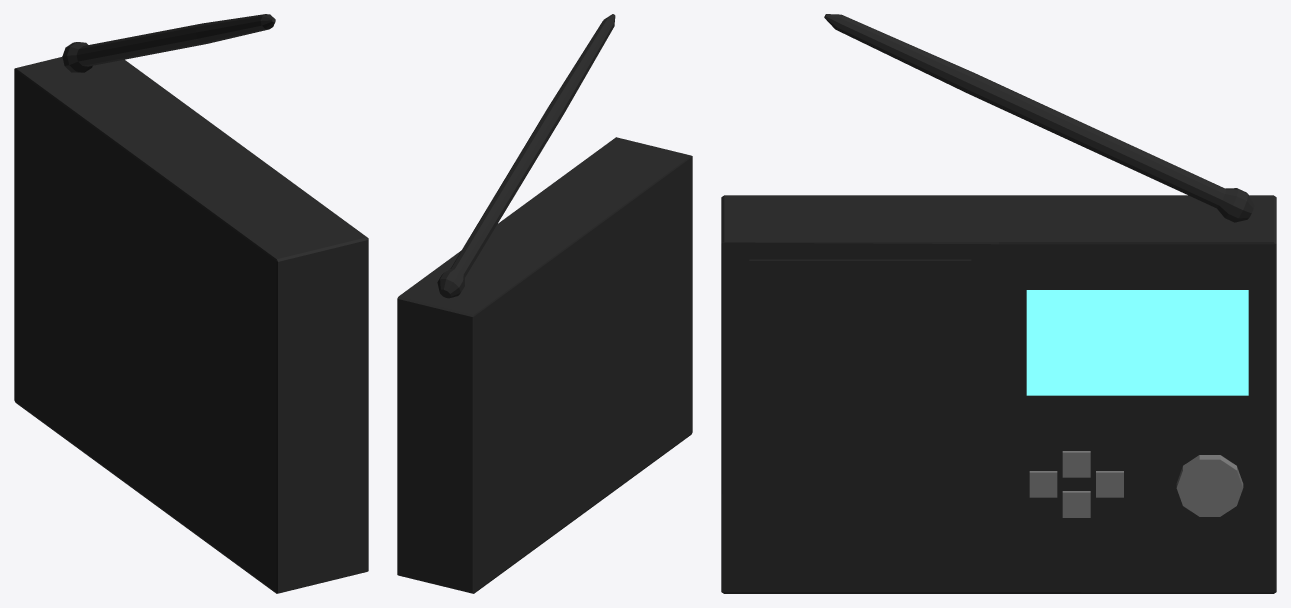
File: RapioPoste.fbx
The picture shows the model from 3 angles, left to right: view 1: azimuth 30°, elevation 25°; view 2: azimuth 150°, elevation 25°; view 3: azimuth 270°, elevation 25°; orthographic projection. The views are drawn at different scales.
Parts seen in each view (by area): view 1: Radio, Antaine; view 2: Radio, Antaine; view 3: Radio, Antaine.
Part boxes in pixels (x1=…): Radio: x1=14, y1=57, x2=368, y2=593; Antaine: x1=62, y1=14, x2=275, y2=72; Radio: x1=397, y1=137, x2=692, y2=593; Antaine: x1=437, y1=14, x2=615, y2=298; Radio: x1=721, y1=195, x2=1276, y2=593; Antaine: x1=824, y1=14, x2=1254, y2=222.
Size of the model in its own units: 11 by 55.32 by 50.
